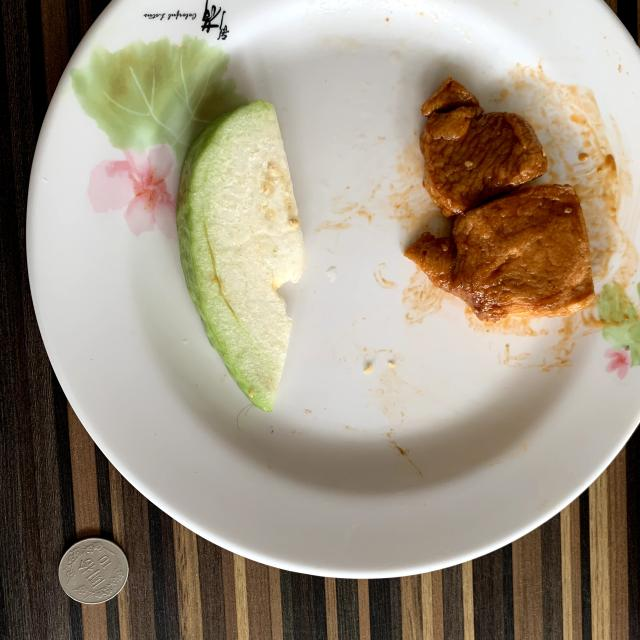coin: (59, 538, 129, 605)
creamy tofu: (405, 78, 595, 321)
guava -sliced-: (176, 100, 306, 411)
